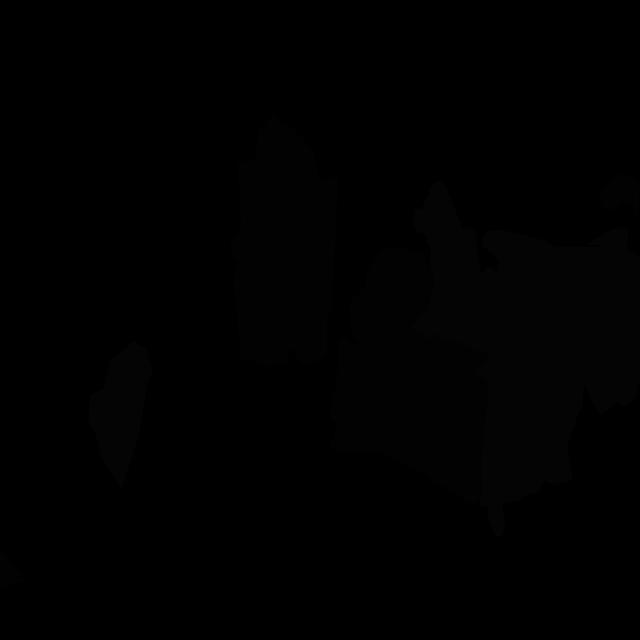cardboard: (329, 326, 489, 506), (230, 115, 338, 367), (349, 244, 435, 345), (600, 173, 640, 220), (0, 547, 25, 588)
soft_plastic: (476, 230, 604, 483), (408, 181, 502, 355), (585, 227, 640, 416), (480, 386, 546, 537), (88, 341, 153, 490)
